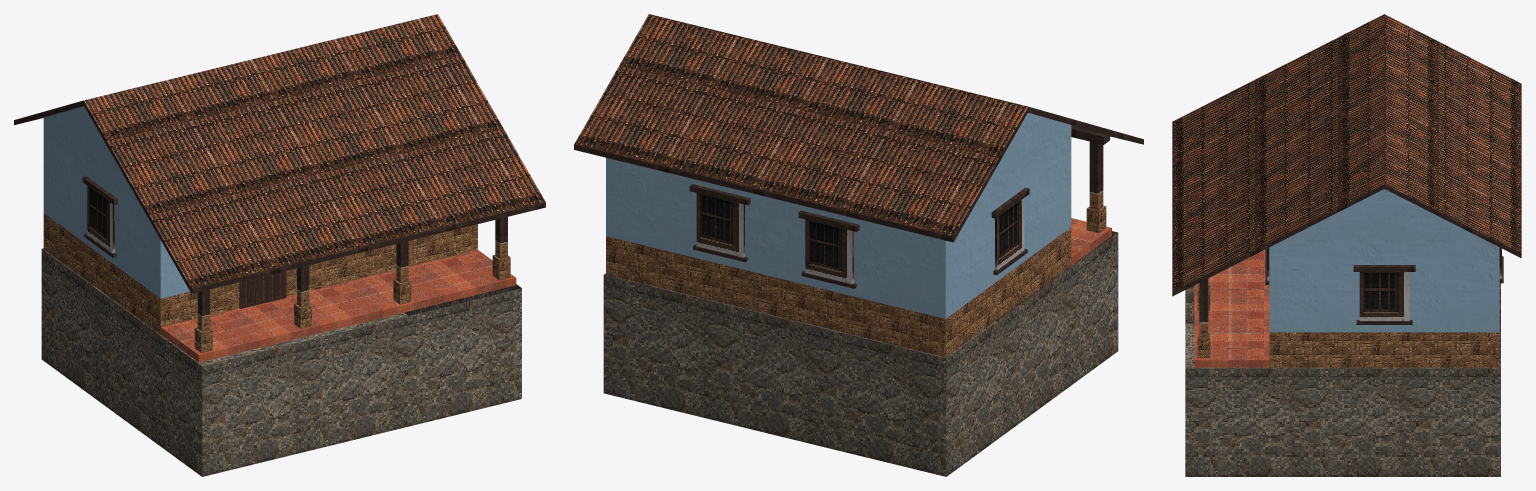
Rendered from 02_rural_celeste_corredor.glb.
3 renders of one model, left to right at view 1: azimuth 30°, elevation 25°; view 2: azimuth 150°, elevation 25°; view 3: azimuth 270°, elevation 25°, orthographic. The views are drawn at different scales.
Parts seen in each view (by area): view 1: 02_rural_celeste_corredor; view 2: 02_rural_celeste_corredor; view 3: 02_rural_celeste_corredor.
Part boxes in pixels (<box>): 02_rural_celeste_corredor: <box>14,14,545,476</box>; 02_rural_celeste_corredor: <box>574,14,1143,476</box>; 02_rural_celeste_corredor: <box>1172,14,1521,476</box>.
Bounding box in the file's own units: 8.04 × 6.65 × 6.98.
9 materials, 9 textured.
